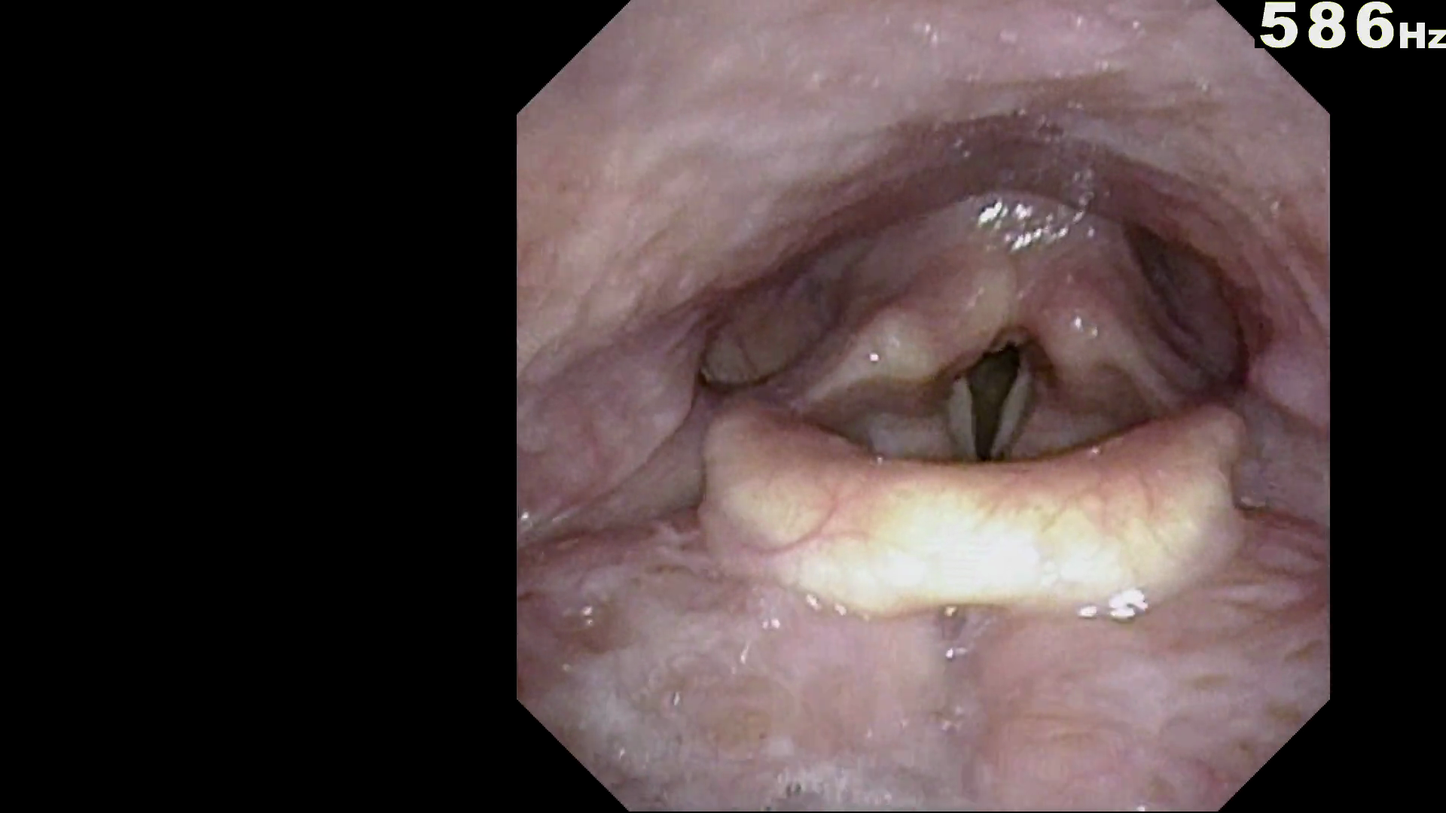epiglottis: (735, 426, 1215, 611)
trachea: (909, 307, 1087, 528)
